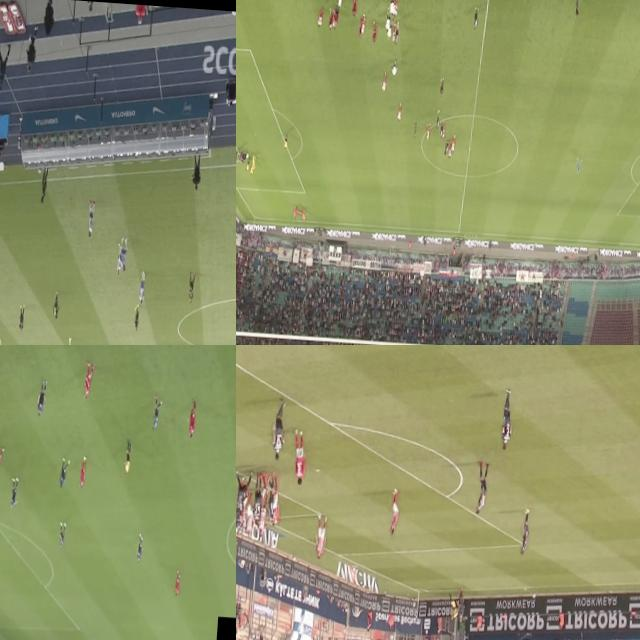ball: (36, 163, 42, 175)
player: (498, 390, 514, 449), (271, 404, 287, 460), (474, 462, 489, 518), (292, 431, 306, 488), (386, 485, 399, 535), (236, 468, 251, 511), (255, 494, 268, 538), (314, 516, 327, 559), (518, 506, 530, 552), (34, 379, 48, 418), (82, 359, 95, 398), (8, 474, 20, 512), (271, 476, 280, 526), (58, 453, 70, 490), (186, 402, 198, 439), (78, 455, 89, 495), (252, 476, 262, 520), (266, 478, 276, 522), (151, 398, 163, 434), (244, 500, 255, 538), (39, 166, 48, 204), (138, 272, 148, 306), (186, 272, 196, 306), (16, 304, 26, 332), (134, 536, 144, 564), (456, 585, 464, 619), (88, 204, 96, 236), (58, 520, 66, 552), (118, 240, 126, 270), (132, 302, 140, 332), (173, 572, 181, 598), (116, 242, 122, 276), (380, 72, 388, 95), (53, 293, 60, 318), (357, 18, 364, 41), (574, 158, 582, 178), (350, 0, 358, 19), (331, 9, 337, 33), (472, 8, 478, 32), (372, 22, 378, 44), (394, 23, 400, 45), (316, 8, 322, 30), (438, 76, 444, 98), (0, 446, 4, 479), (412, 120, 418, 140), (434, 110, 440, 130), (392, 0, 398, 18), (236, 500, 239, 534), (396, 104, 402, 120), (447, 142, 452, 160), (361, 18, 366, 36), (64, 337, 74, 345), (438, 123, 443, 139), (440, 125, 445, 141), (450, 136, 455, 152), (425, 124, 430, 140), (392, 25, 396, 45), (444, 140, 448, 156)
